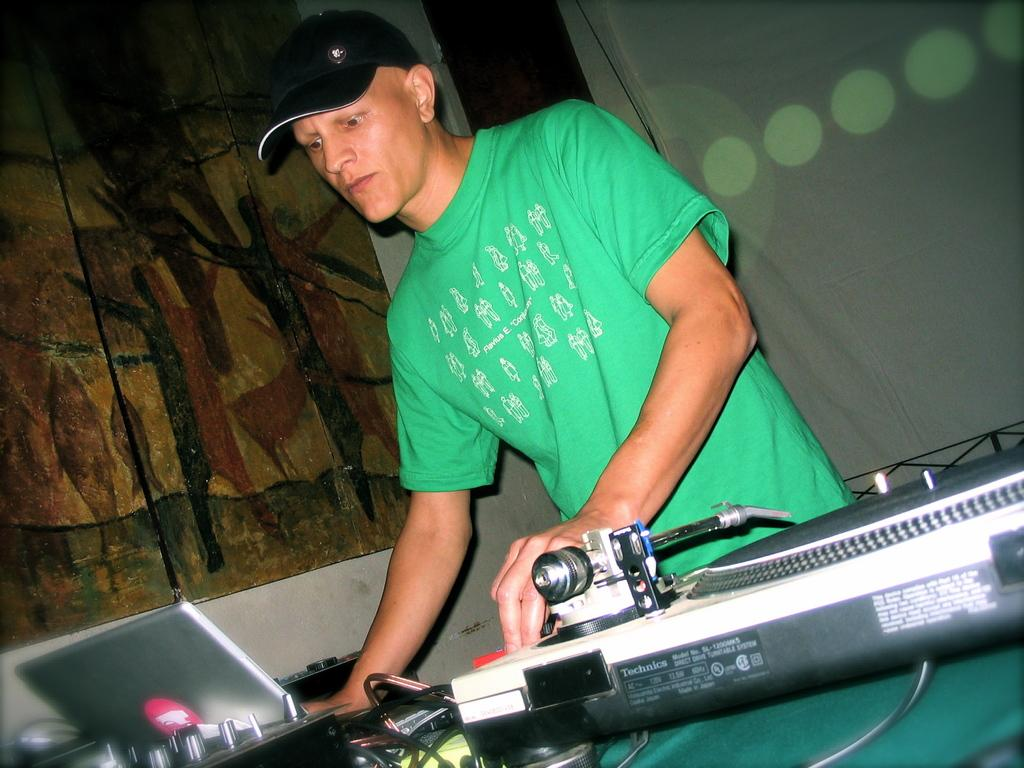Hat: (254, 11, 417, 174)
